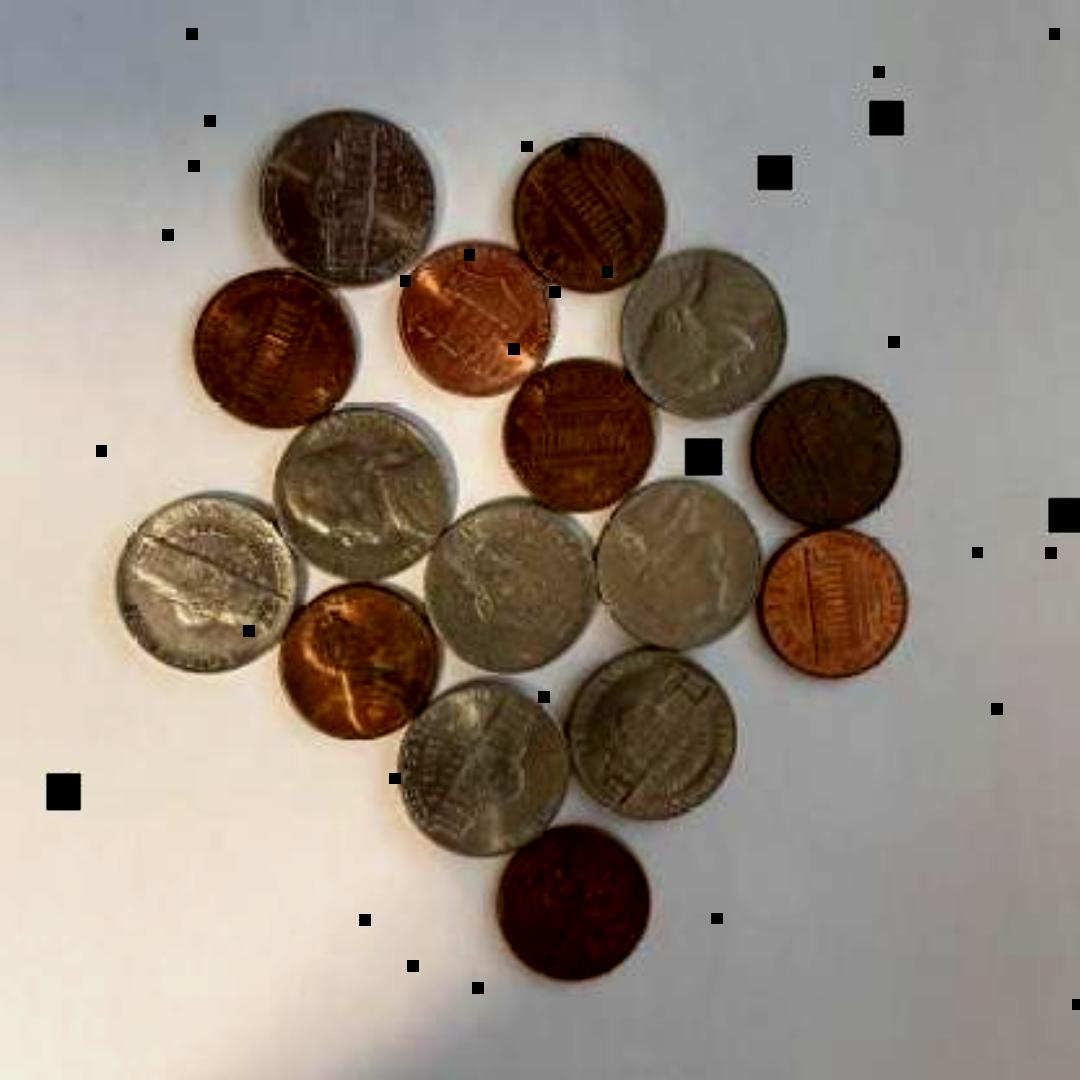Nickel: (256, 106, 444, 292), (422, 486, 603, 678), (271, 404, 459, 586), (113, 490, 299, 670), (592, 468, 768, 656), (614, 244, 790, 426), (396, 679, 572, 855), (566, 652, 742, 823)
Penny: (190, 268, 366, 428), (285, 580, 445, 746), (491, 823, 651, 989), (400, 234, 560, 400), (515, 133, 675, 293), (762, 528, 912, 688), (503, 357, 658, 507), (751, 373, 901, 523)
